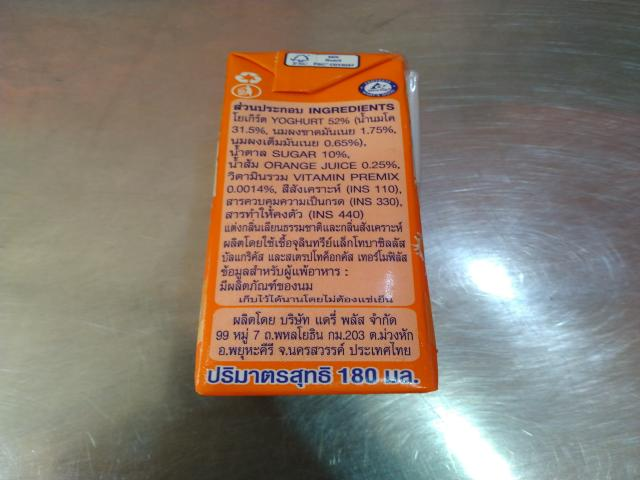drink_box: (191, 38, 458, 399)
